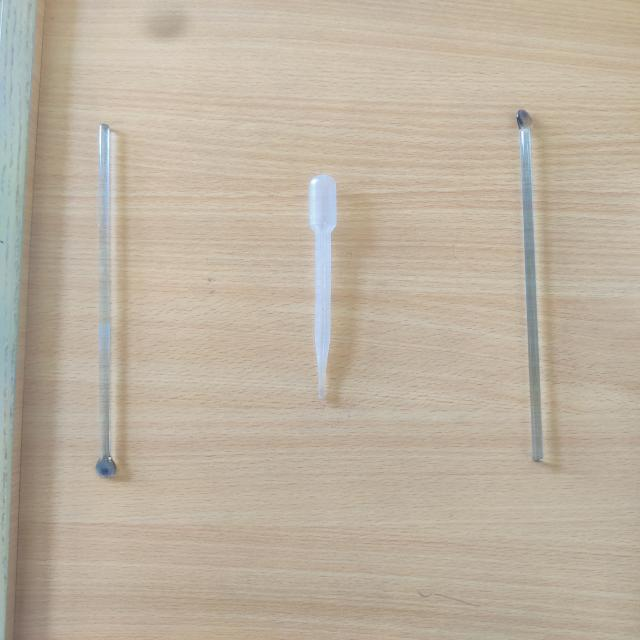Glass_Rod: (52, 101, 188, 505), (470, 82, 587, 490)
Pipette: (256, 138, 410, 423)
